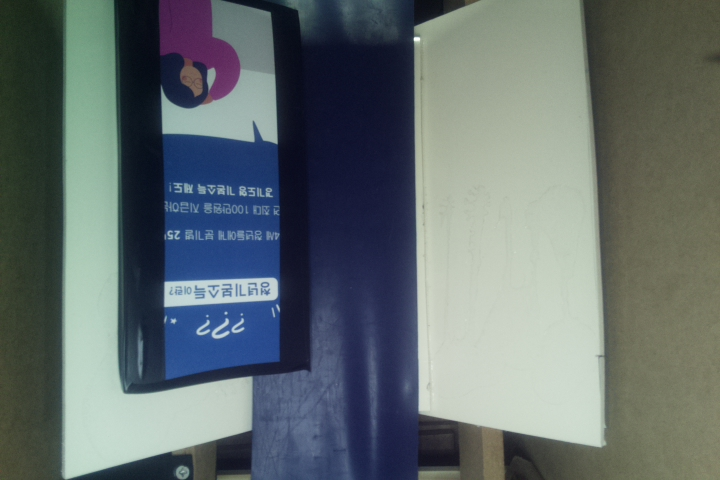book: (118, 1, 315, 400)
